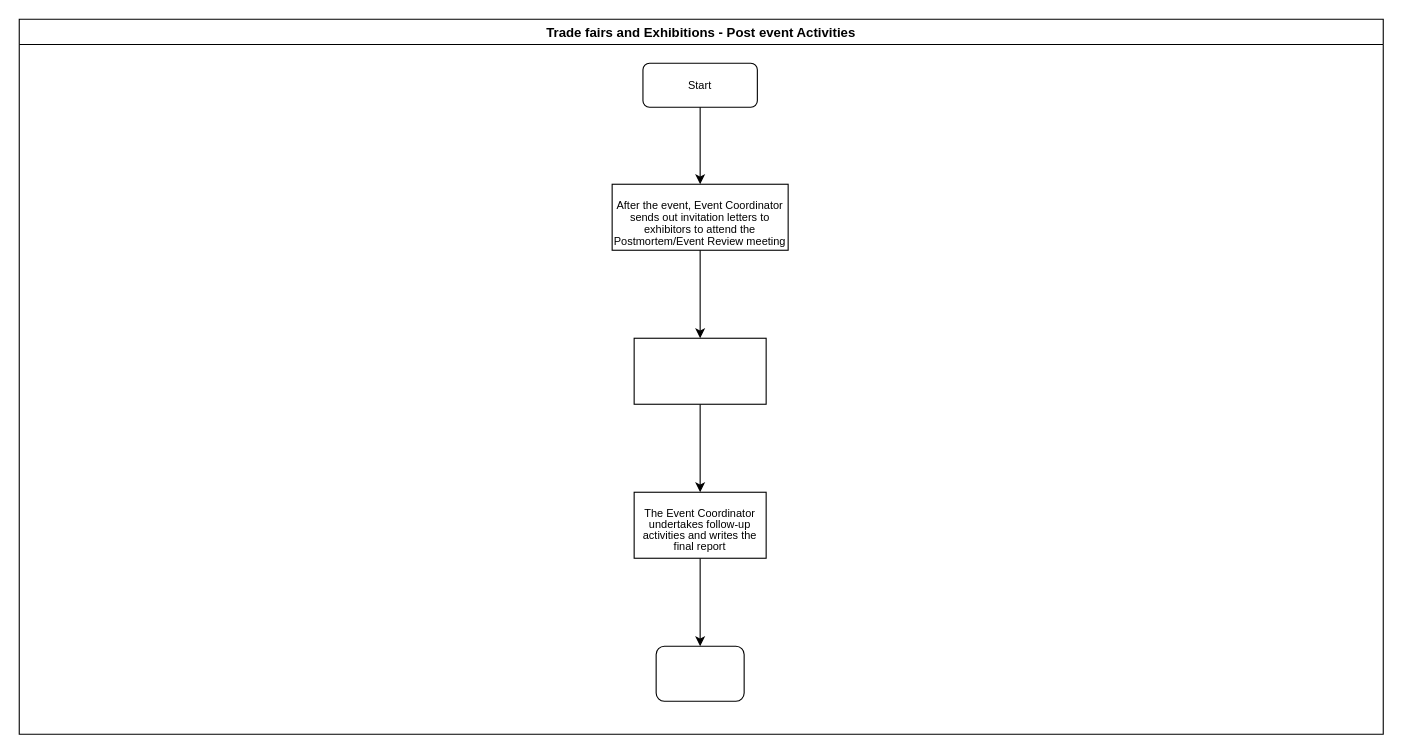
Image size: 1403x754. Some labels were removed from this diagram. The shapes that lost their labels are listed below. From the top down, each one's centre as x and y in pixels, then its label:
point 699,370: Event Coordinator convenes the Postmortem/Event Review meeting for participants
point 699,673: End
